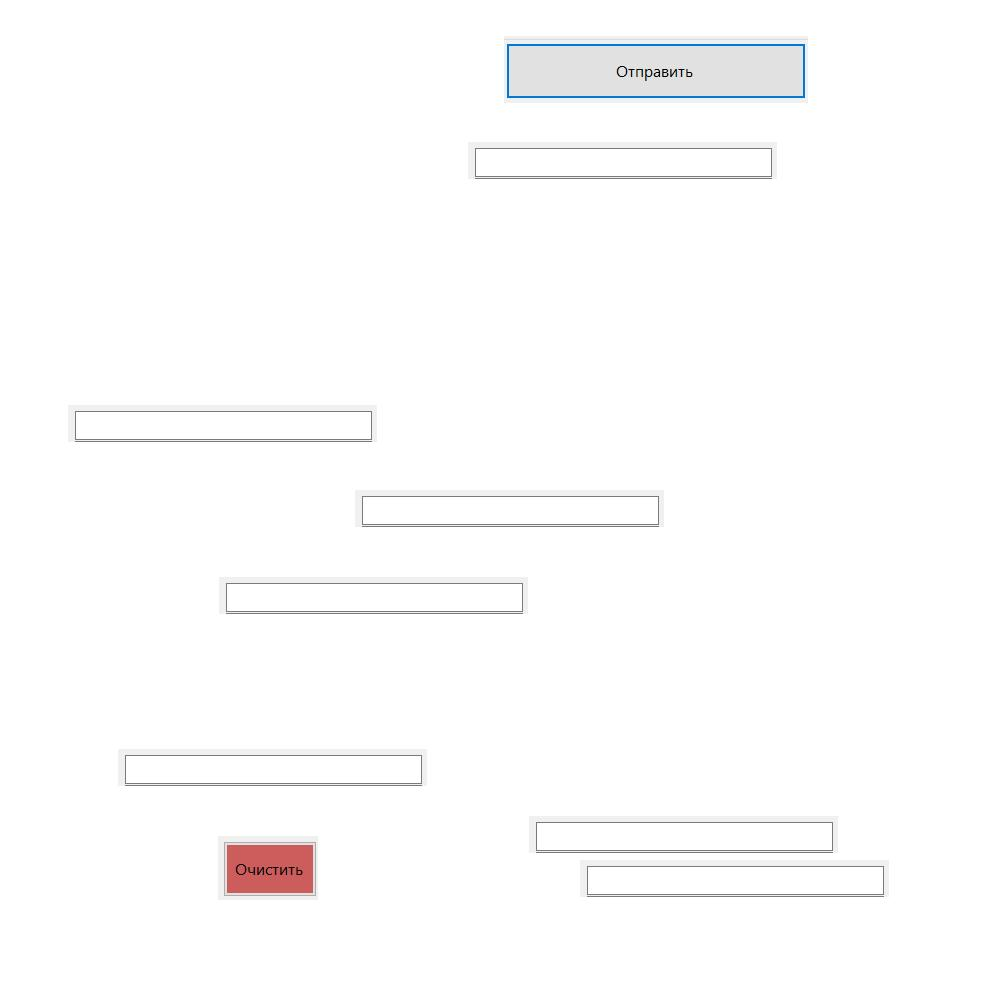Button: (504, 36, 808, 103), (218, 836, 318, 900)
EditText-: (219, 577, 528, 614), (580, 860, 889, 897), (468, 142, 777, 179), (118, 749, 427, 786), (355, 490, 664, 527), (68, 405, 377, 442), (529, 816, 838, 853)
